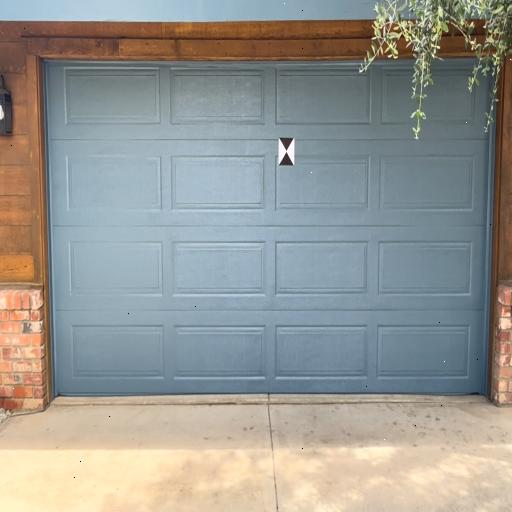target: (279, 138, 294, 165)
